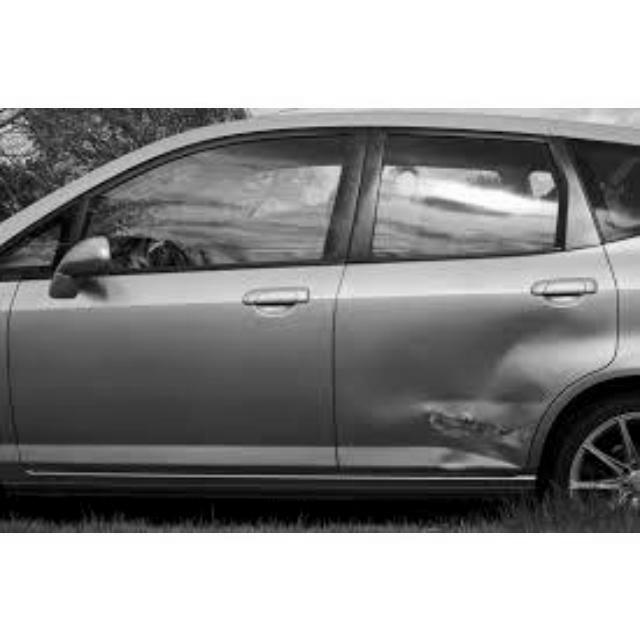doorouter-dent: (371, 287, 582, 480)
